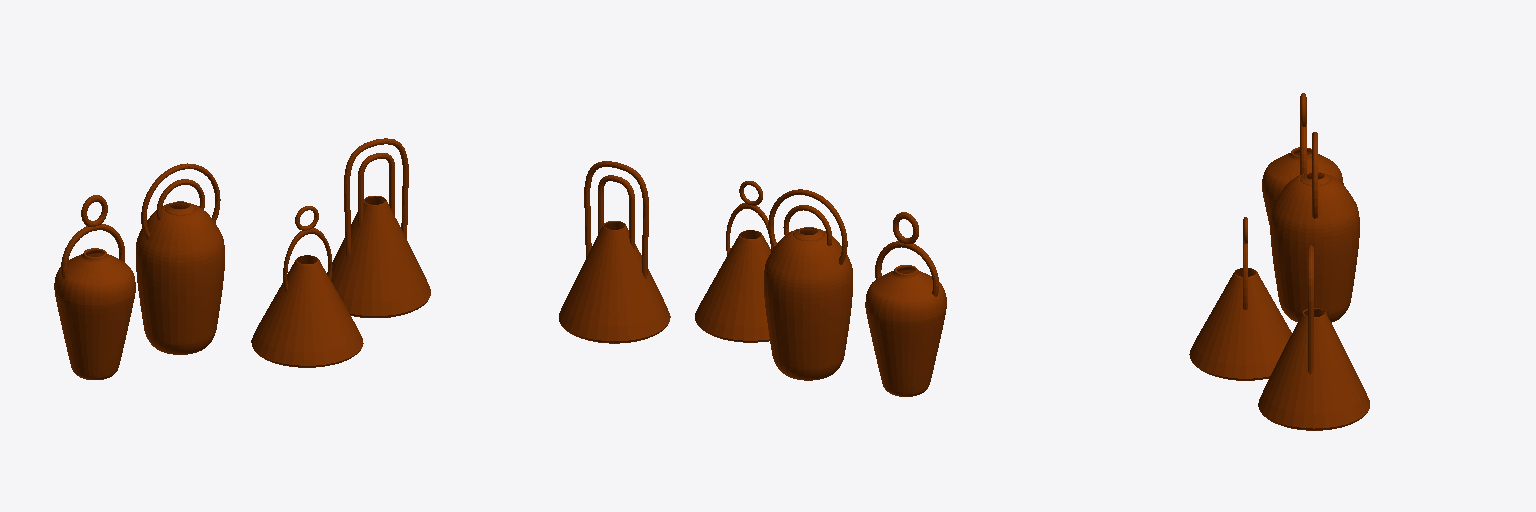
The model's file is Vases.obj.
The picture shows the model from 3 angles: view 1: azimuth 30°, elevation 25°; view 2: azimuth 150°, elevation 25°; view 3: azimuth 270°, elevation 25°; orthographic projection.
Visible parts, largest first — view 1: Line002, Line004, Circle001, Line003; view 2: Line002, Line004, Circle001, Line003; view 3: Line002, Line004, Line003, Circle001.
Part boxes in pixels (left/top/right/bottom): Line002: left=136, top=163, right=224, bottom=354; Line004: left=327, top=138, right=430, bottom=317; Circle001: left=54, top=195, right=135, bottom=379; Line003: left=251, top=206, right=363, bottom=367; Line002: left=764, top=189, right=852, bottom=380; Line004: left=559, top=161, right=670, bottom=343; Circle001: left=865, top=212, right=946, bottom=396; Line003: left=695, top=181, right=772, bottom=342; Line002: left=1270, top=132, right=1359, bottom=322; Line004: left=1258, top=245, right=1369, bottom=430; Line003: left=1189, top=217, right=1291, bottom=380; Circle001: left=1262, top=93, right=1343, bottom=224.
Bounding box in the file's own units: 155 × 74.25 × 65.88.